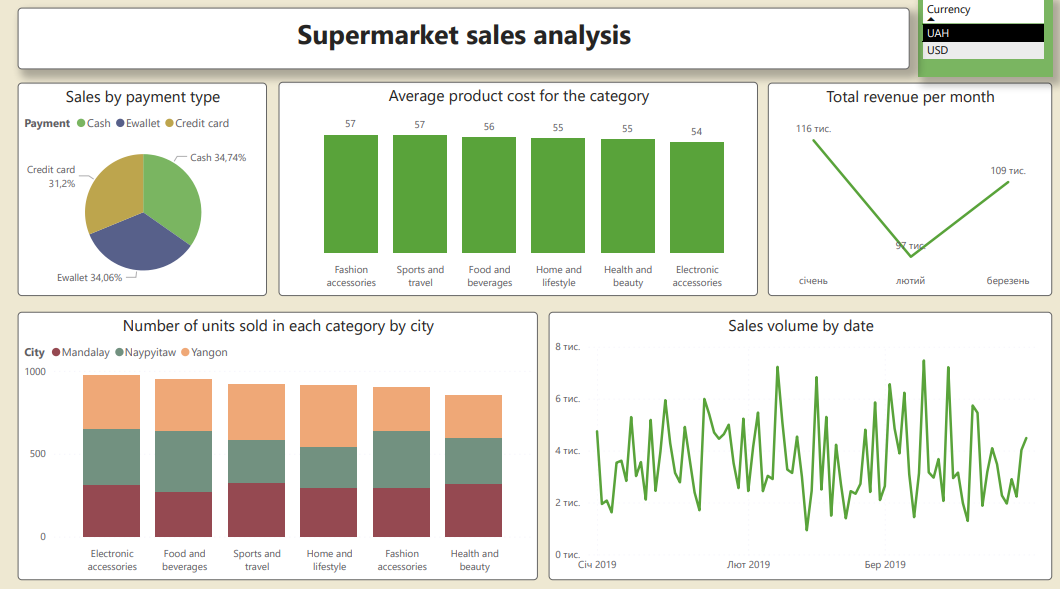

Layout of this report page (visuals, bound fields, positions):
{"tool":"powerbi","page":{"name":"sales analysis","canvas":[1280,720],"ordinal":0},"visuals":[{"type":"lineChart","title":" Total revenue per month","fields":{"Category":["supermarket_sales csv.Date.Варіація.Ієрархія дат.Місяць"],"Y":["supermarket_sales.Total by currency"]},"box":[926.2,104.3,340.3,255.2],"z":0},{"type":"clusteredColumnChart","title":"Average product cost for the category","fields":{"Category":["supermarket_sales csv.Product line"],"Y":["supermarket_sales.Average Price"]},"box":[338.9,102.9,575,256.6],"z":1000},{"type":"lineChart","title":"Sales volume by date","fields":{"Category":["supermarket_sales csv.Date.Варіація.Ієрархія дат.Рік","supermarket_sales csv.Date.Варіація.Ієрархія дат.Місяць","supermarket_sales csv.Date.Варіація.Ієрархія дат.День"],"Y":["supermarket_sales.Total by currency"]},"box":[662.8,378.7,603.8,322.5],"z":2000},{"type":"columnChart","title":"Number of units sold in each category by city","fields":{"Category":["supermarket_sales csv.Product line"],"Y":["Sum(supermarket_sales.Quantity)"],"Series":["supermarket_sales.City"]},"box":[26.1,378.7,624.4,322.5],"z":3000},{"type":"pieChart","title":" Sales by payment type","fields":{"Category":["supermarket_sales csv.Payment"],"Y":["supermarket_sales.Total by currency"]},"box":[26.1,104.3,299.1,255.2],"z":4000},{"type":"tableEx","fields":{"Values":["Currency.Currency"]},"box":[1106.3,6.1,160.1,81.9],"z":5000},{"type":"textbox","box":[26.1,13.7,1070.3,74.1],"z":6000}]}

Visuals, with their boxes in screenshot pixels (x1, y1, x2, y2), scaled from the page's 1280x720 canvas onto the 1060x589 screenshot:
" Total revenue per month" lineChart: <region>767, 85, 1049, 294</region>
"Average product cost for the category" clusteredColumnChart: <region>281, 84, 757, 294</region>
"Sales volume by date" lineChart: <region>549, 310, 1049, 574</region>
"Number of units sold in each category by city" columnChart: <region>22, 310, 539, 574</region>
" Sales by payment type" pieChart: <region>22, 85, 269, 294</region>
tableEx - Currency.Currency: <region>916, 5, 1049, 72</region>
textbox: <region>22, 11, 908, 72</region>
